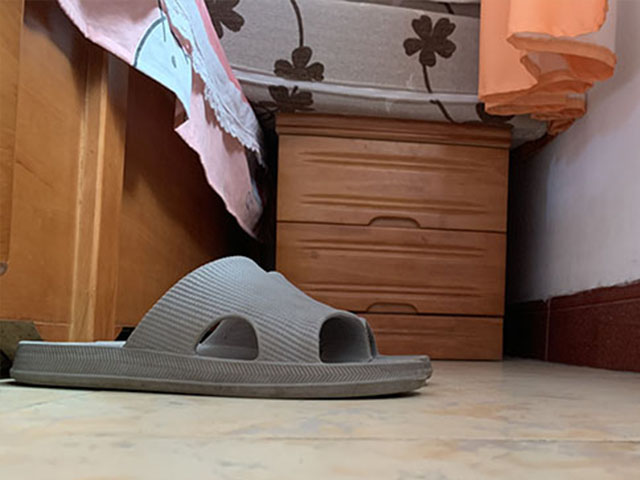cabinet: (269, 108, 516, 362)
slippers: (7, 254, 436, 401)
